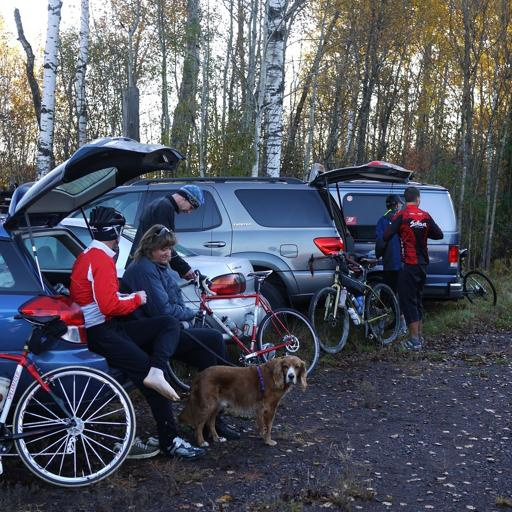non-vehicle: (0, 313, 135, 487), (189, 266, 318, 381), (304, 248, 400, 355), (458, 247, 497, 307)
